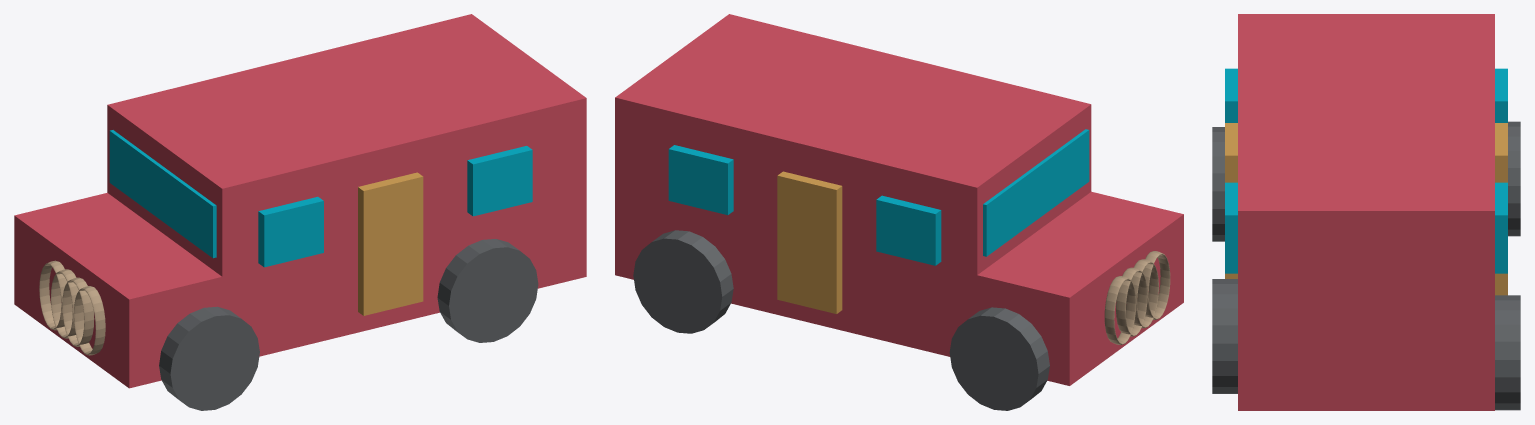
File: car.glb
3 renders of one model, left to right at view 1: azimuth 30°, elevation 25°; view 2: azimuth 150°, elevation 25°; view 3: azimuth 270°, elevation 25°, orthographic. The views are drawn at different scales.
Visible parts, largest first — view 1: Mesh_Mesh_head_geo.001_lambert2SG.001; view 2: Mesh_Mesh_head_geo.001_lambert2SG.001; view 3: Mesh_Mesh_head_geo.001_lambert2SG.001.
Boxes of the visible parts, x1,y1,x2,y2 form: Mesh_Mesh_head_geo.001_lambert2SG.001: [14, 14, 586, 410]; Mesh_Mesh_head_geo.001_lambert2SG.001: [615, 14, 1183, 410]; Mesh_Mesh_head_geo.001_lambert2SG.001: [1212, 14, 1520, 410].
Size of the model in its own units: 47 by 20.18 by 24.
